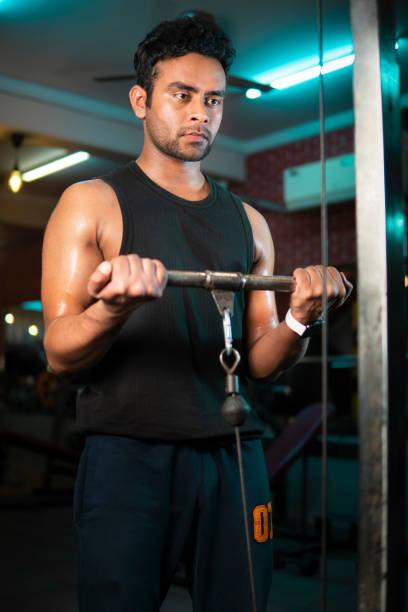Pessoa: (42, 17, 273, 611)
